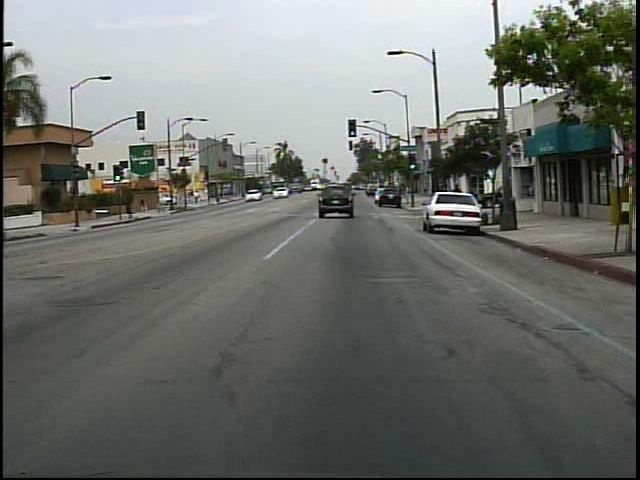person: (446, 179, 467, 217), (135, 191, 154, 220), (193, 188, 202, 207)
